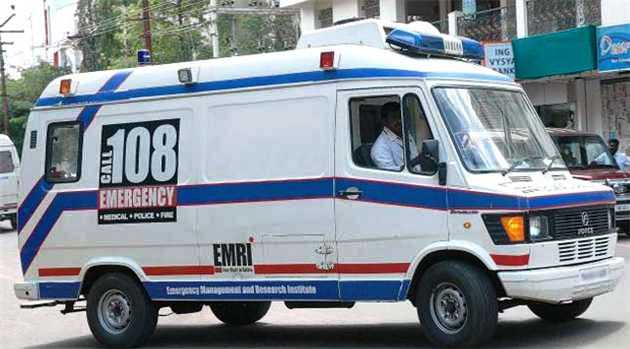ambulance: (26, 24, 617, 345)
